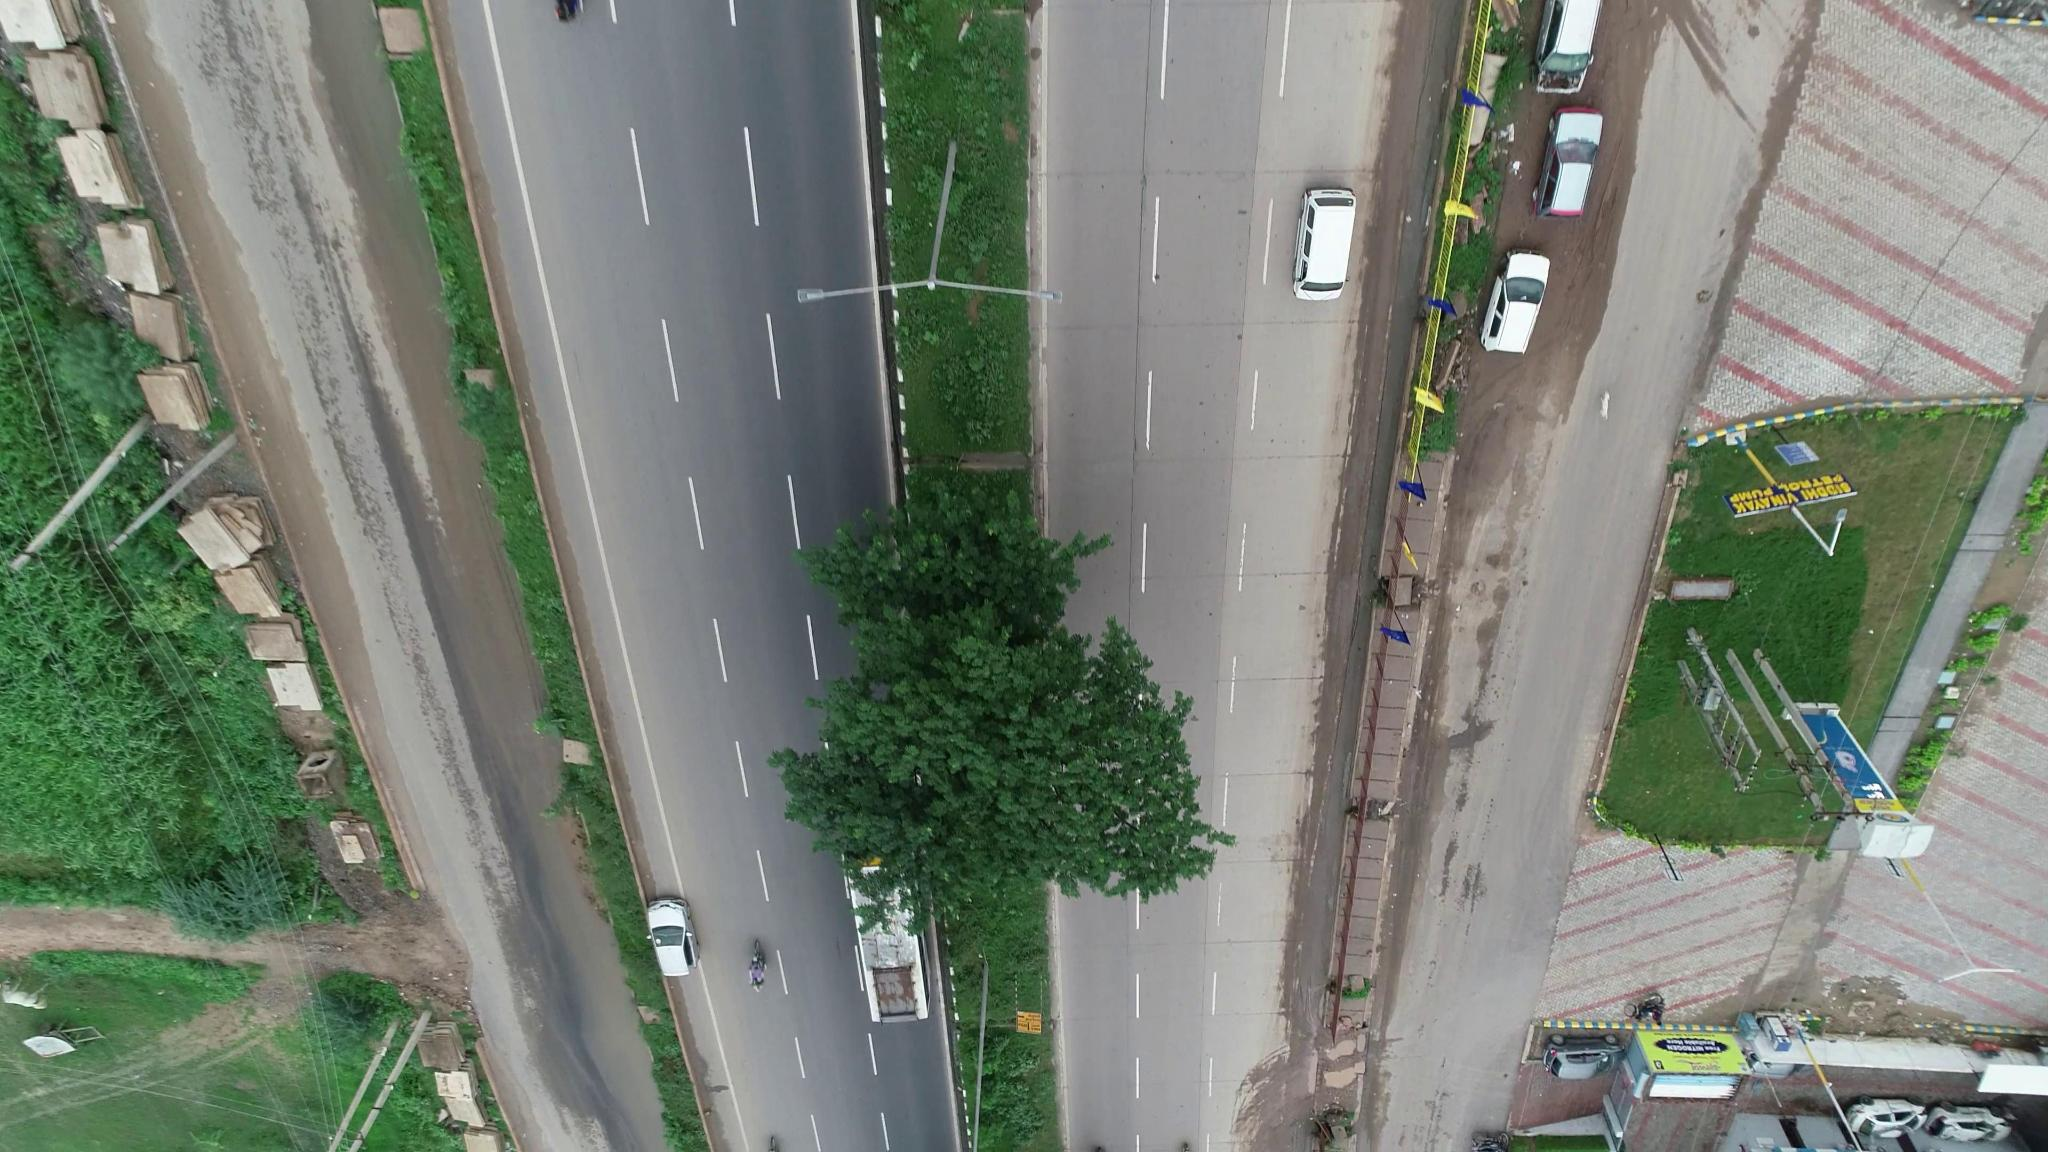Ravelling: (300, 336, 401, 560)
